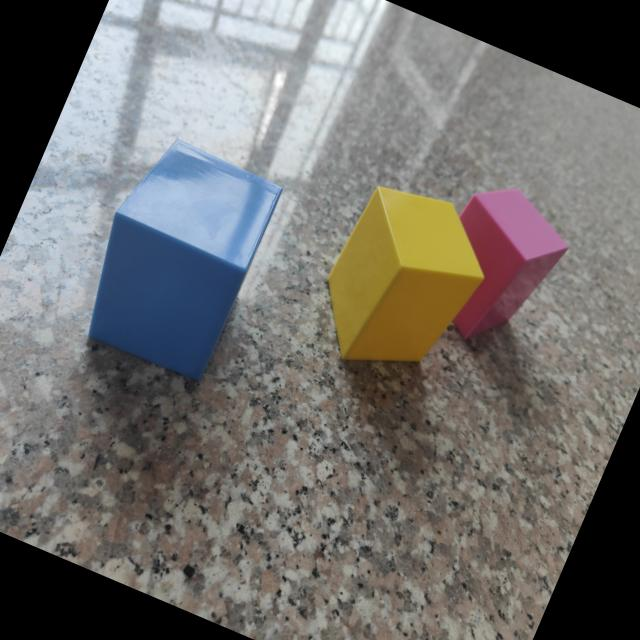blue: (87, 142, 282, 383)
pink: (453, 190, 568, 341)
yellow: (326, 188, 485, 363)
